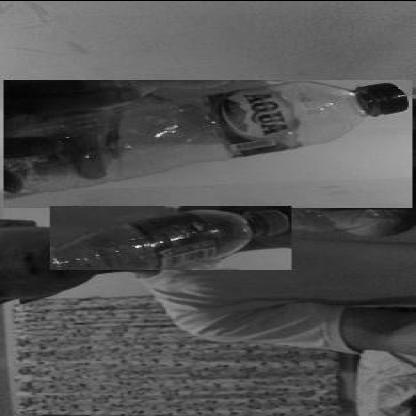plastic_bottles: (4, 79, 412, 207), (49, 205, 294, 269)
